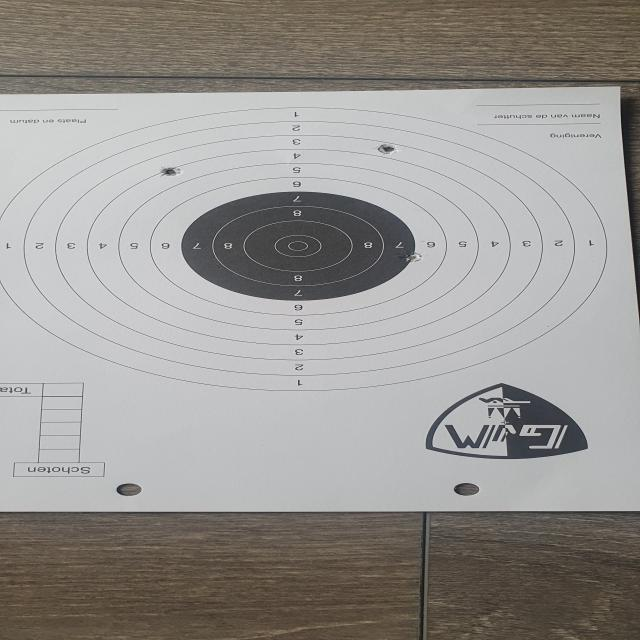3: (372, 143, 403, 155)
4: (158, 166, 184, 177)
7: (397, 252, 428, 263)
Target: (0, 105, 612, 392)
black_contour: (182, 191, 415, 301)
